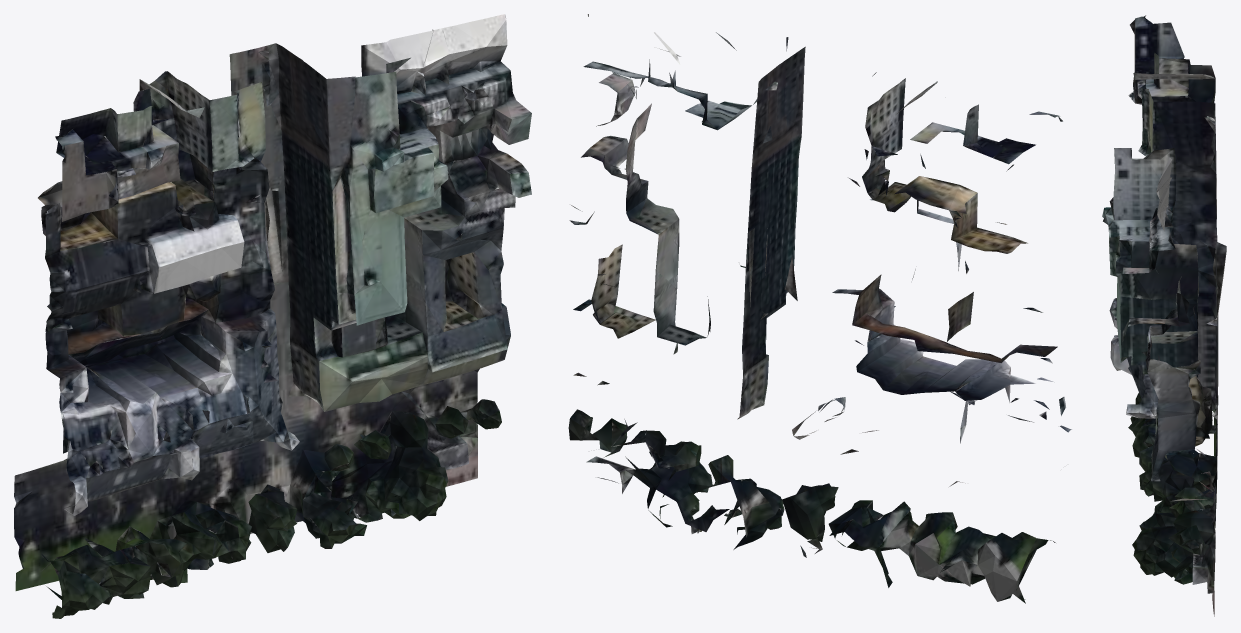
The model's file is Tile_+035_+020_L17_0001.glb.
3 views of the same model, side by side, from view 1: azimuth 30°, elevation 25°; view 2: azimuth 150°, elevation 25°; view 3: azimuth 270°, elevation 25° (orthographic). The views are drawn at different scales.
Bounding box in the file's own units: 126 × 126 × 34.5.
Materials: 1 (1 with a texture image).
